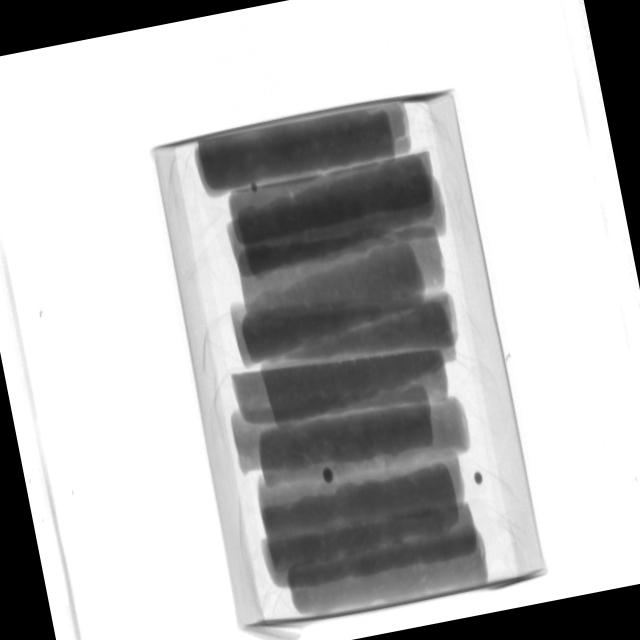ym: (321, 466, 335, 484), (475, 471, 487, 486), (252, 183, 261, 193)
